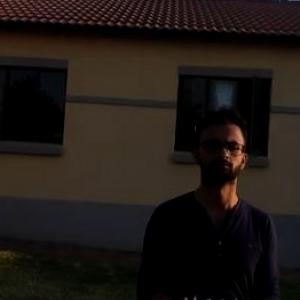follow: (126, 94, 283, 299)
